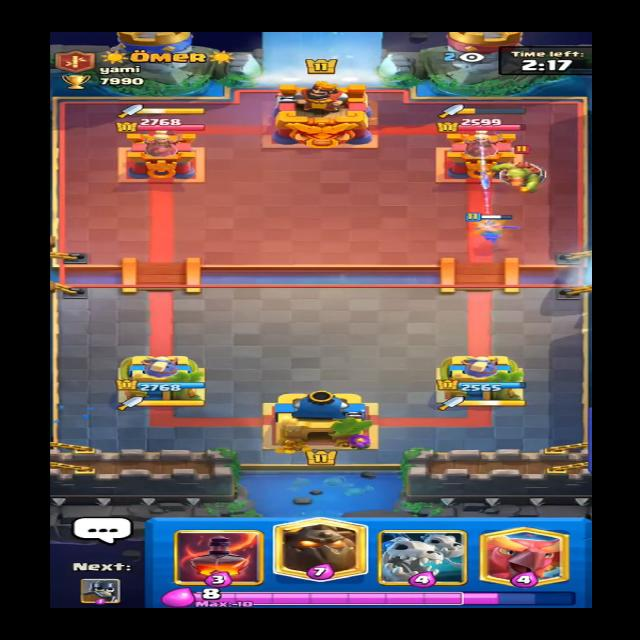goblin-demolisher: (483, 147, 555, 191)
